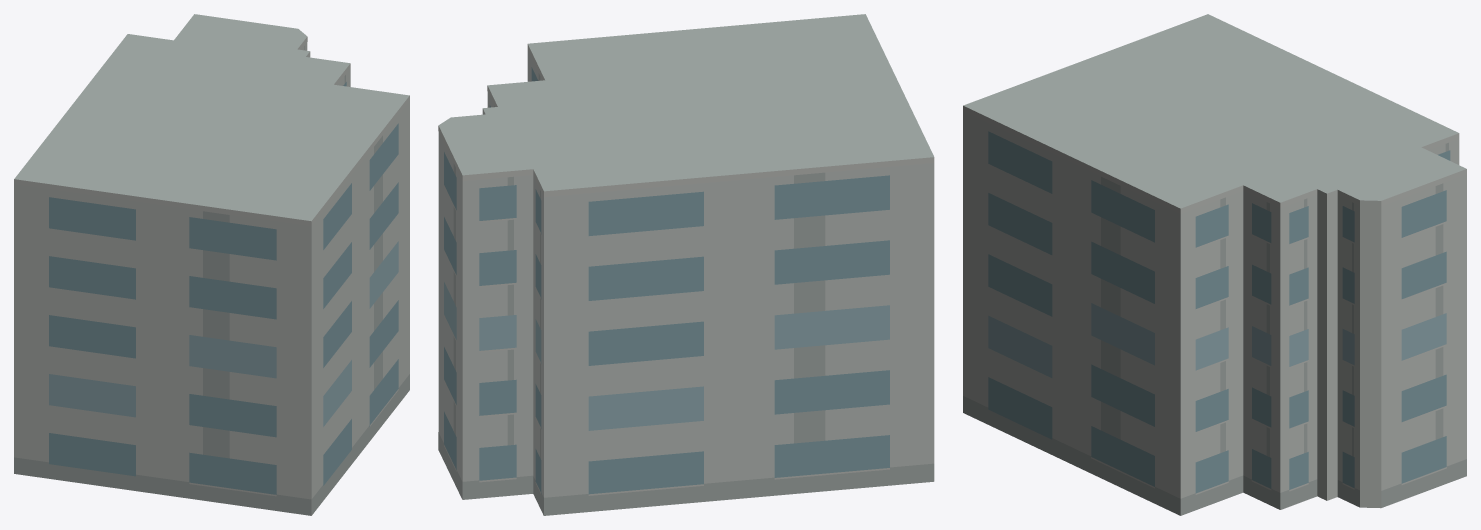
The model's file is survey-upis-33043699.glb.
3 views of the same model, side by side, from view 1: azimuth 30°, elevation 25°; view 2: azimuth 150°, elevation 25°; view 3: azimuth 270°, elevation 25° (orthographic). The views are drawn at different scales.
Visible parts, largest first — view 1: survey-upis-33043699.tmp; view 2: survey-upis-33043699.tmp; view 3: survey-upis-33043699.tmp.
Boxes of the visible parts, x1=… form: survey-upis-33043699.tmp: x1=14, y1=14, x2=409, y2=515; survey-upis-33043699.tmp: x1=438, y1=14, x2=934, y2=515; survey-upis-33043699.tmp: x1=963, y1=14, x2=1466, y2=515.
Bounding box in the file's own units: 18.21 × 13.4 × 19.92.
